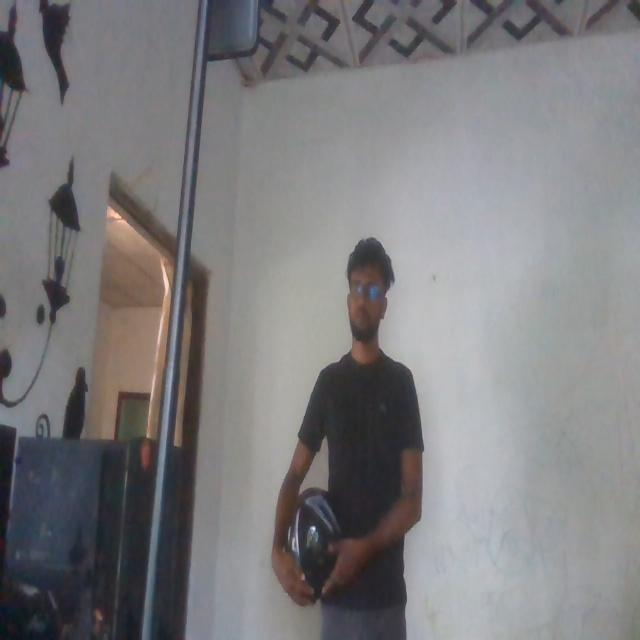Person: (274, 225, 438, 617)
